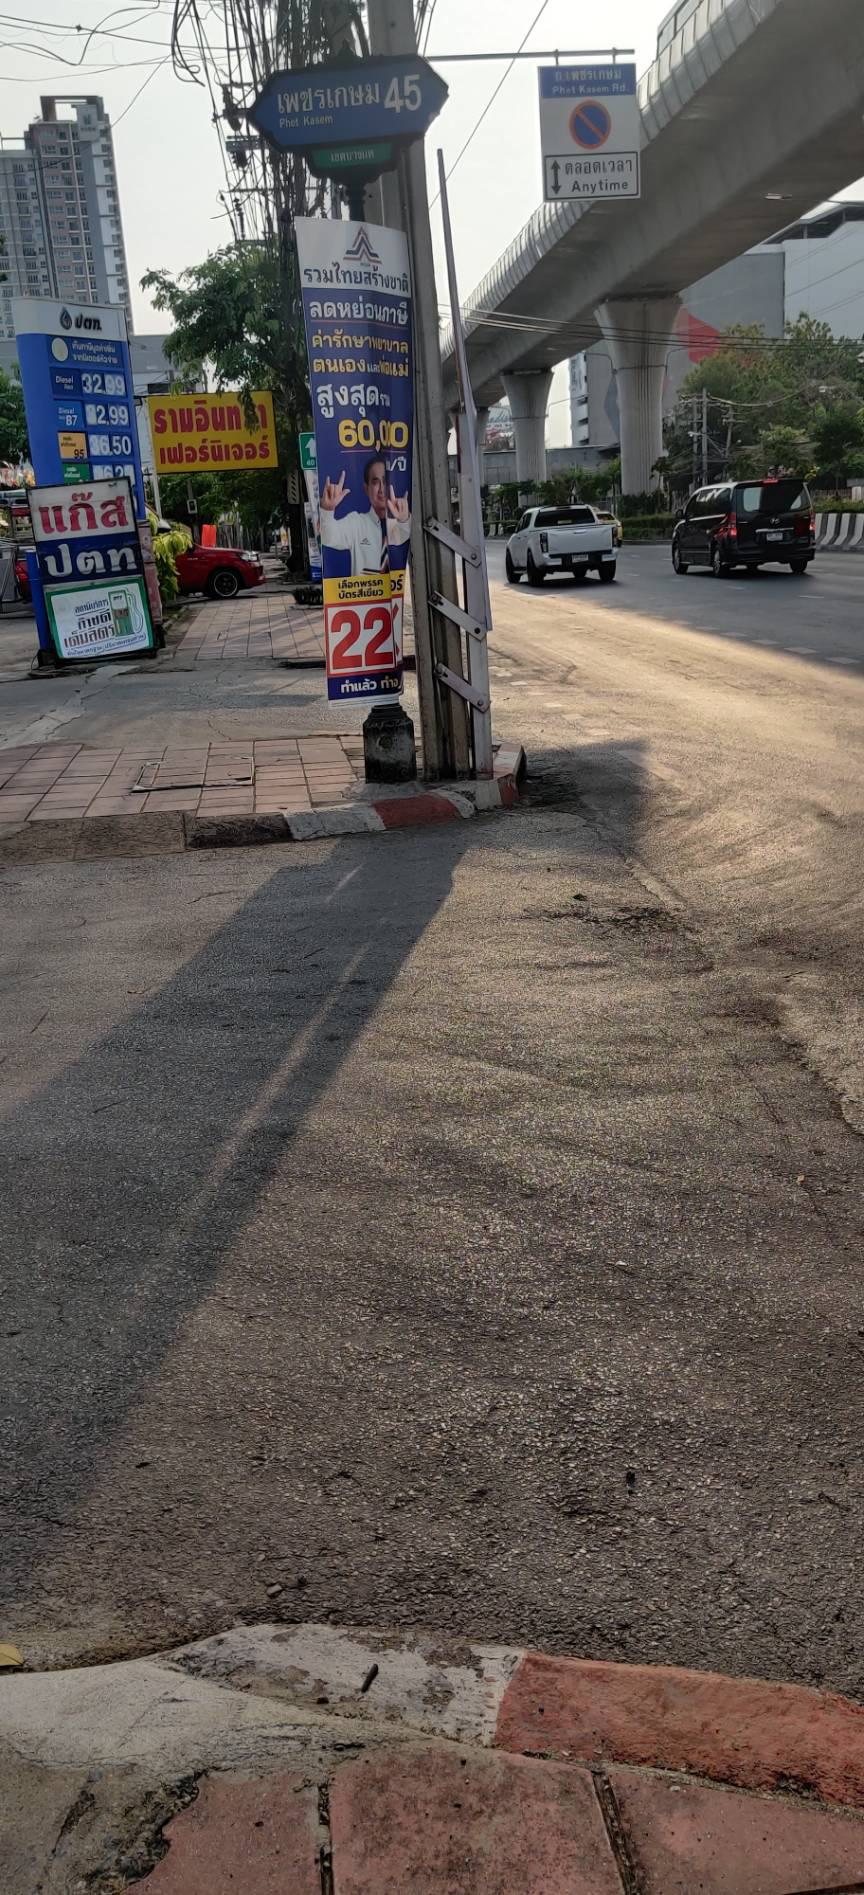Banner: (285, 201, 454, 692)
